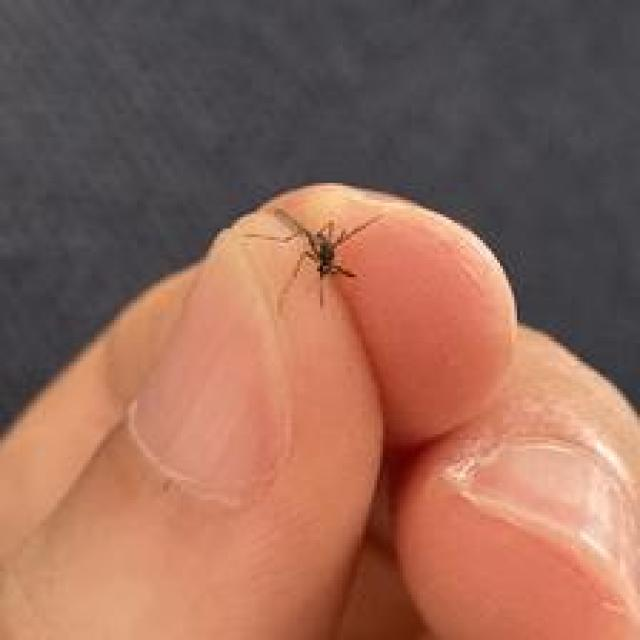Aedes albopictus: (246, 204, 386, 310)
